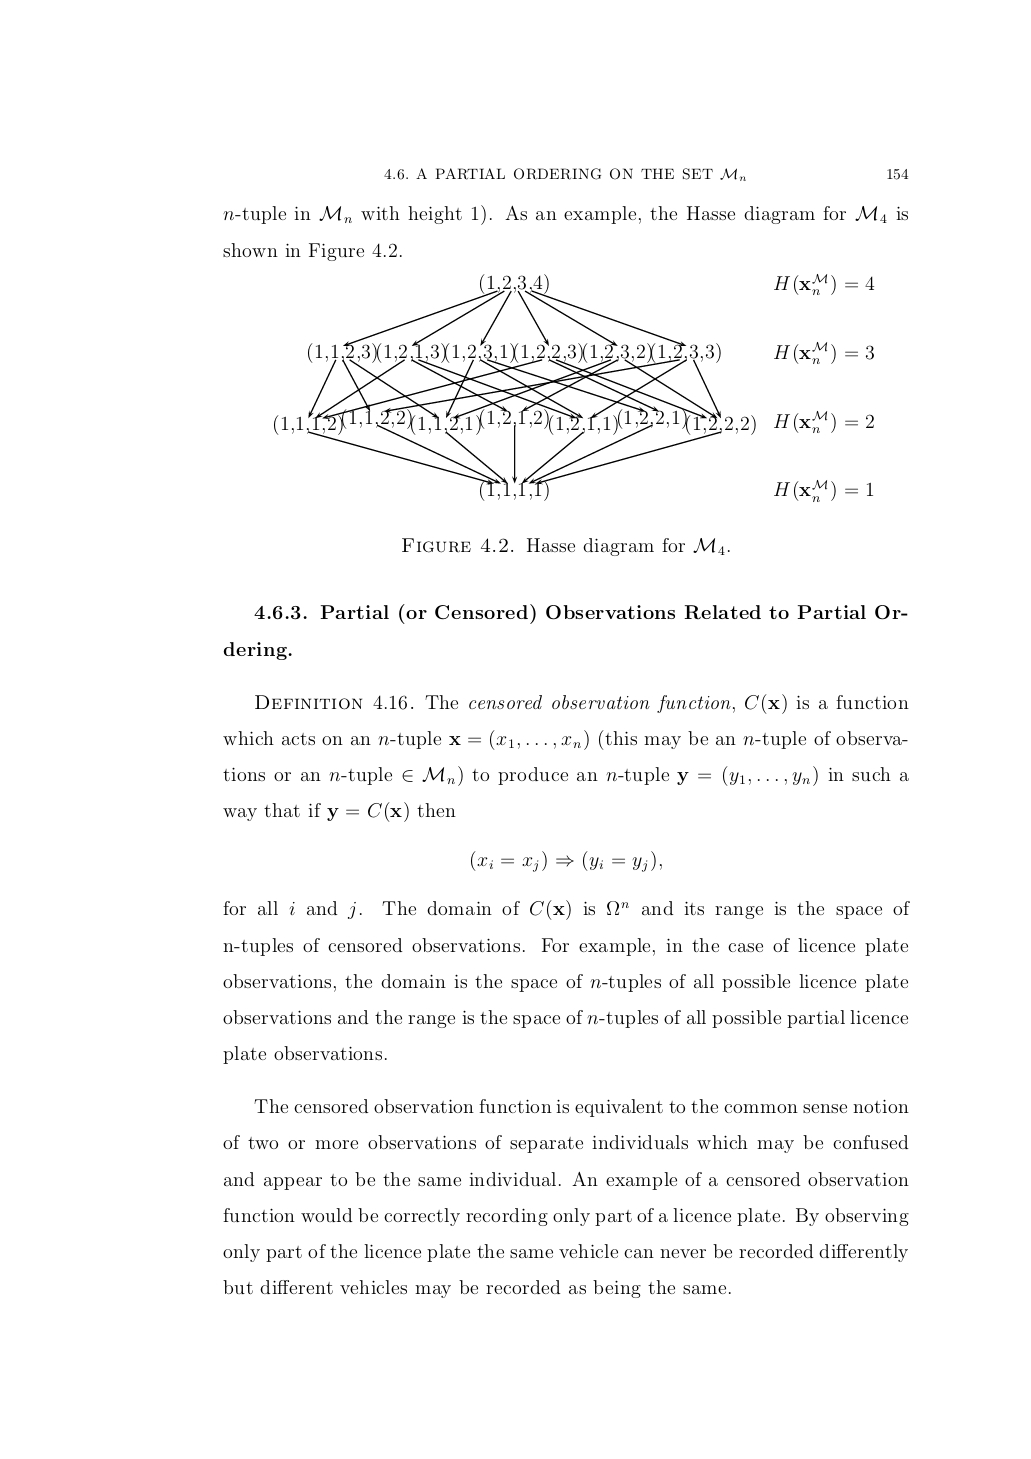figure: (274, 272, 874, 502)
formula: (471, 850, 661, 872)
